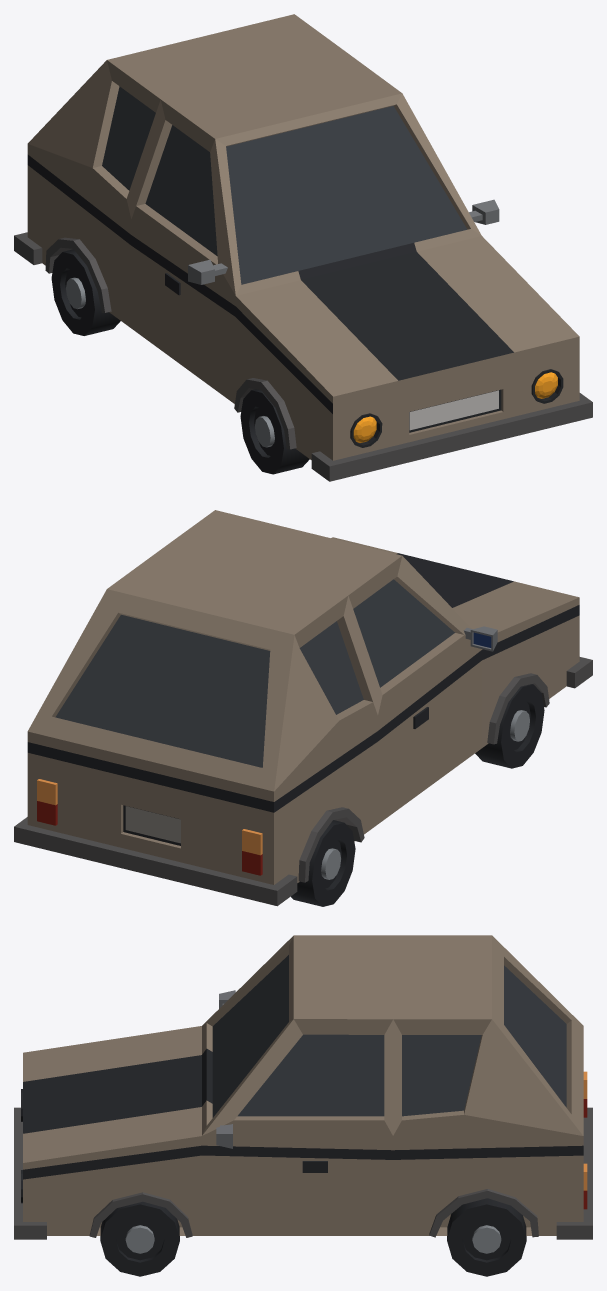
The model's file is Car_8.fbx.
3 renders of one model, top to bottom at view 1: azimuth 30°, elevation 25°; view 2: azimuth 150°, elevation 25°; view 3: azimuth 270°, elevation 25°, orthographic. The views are drawn at different scales.
Visible parts, largest first — view 1: Car_8; view 2: Car_8; view 3: Car_8.
Part boxes in pixels (bbox=[...]): Car_8: bbox=[14, 14, 592, 481]; Car_8: bbox=[14, 510, 592, 906]; Car_8: bbox=[14, 935, 592, 1276].
Size of the model in its own units: 188 by 155 by 338.
